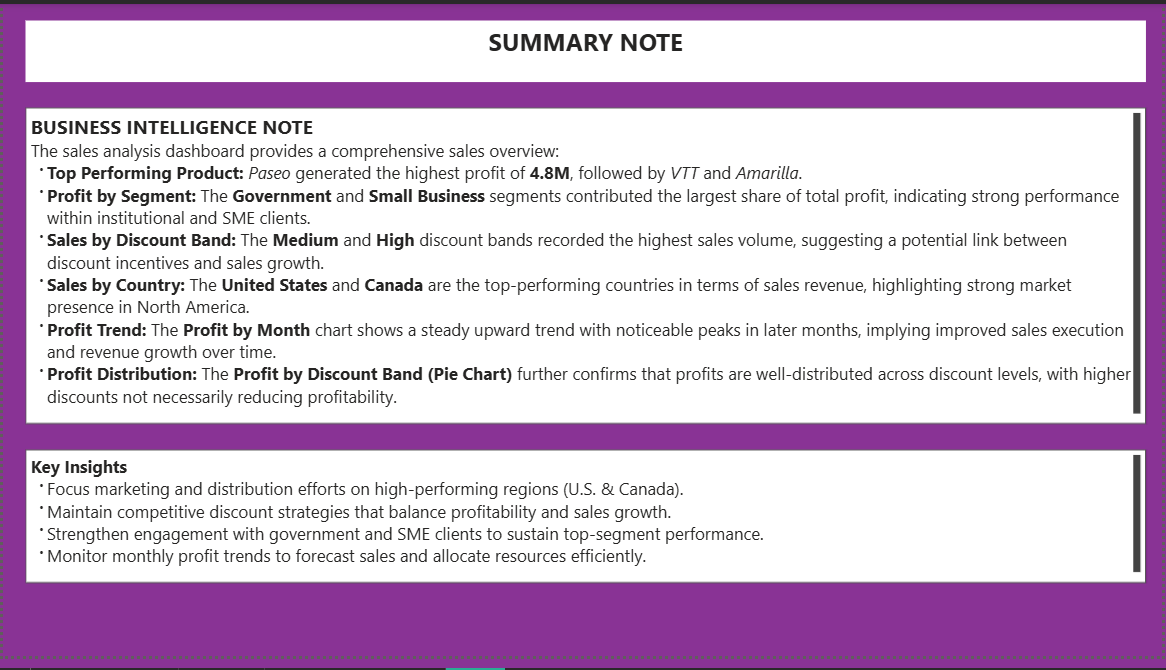

The page's visual inventory and layout, read from the dashboard file:
{"tool":"powerbi","page":{"name":"Summary note","canvas":[1280,720],"ordinal":2},"visuals":[{"type":"textbox","box":[9.9,0,1252.3,371.1],"z":0},{"type":"textbox","box":[9.9,395.9,1252.3,195.5],"z":1}]}

Visuals, with their boxes in screenshot pixels (x1, y1, x2, y2), scaled from the page's 1280x720 canvas onto the 1166x670 screenshot:
textbox: (left=9, top=0, right=1150, bottom=345)
textbox: (left=9, top=368, right=1150, bottom=550)
